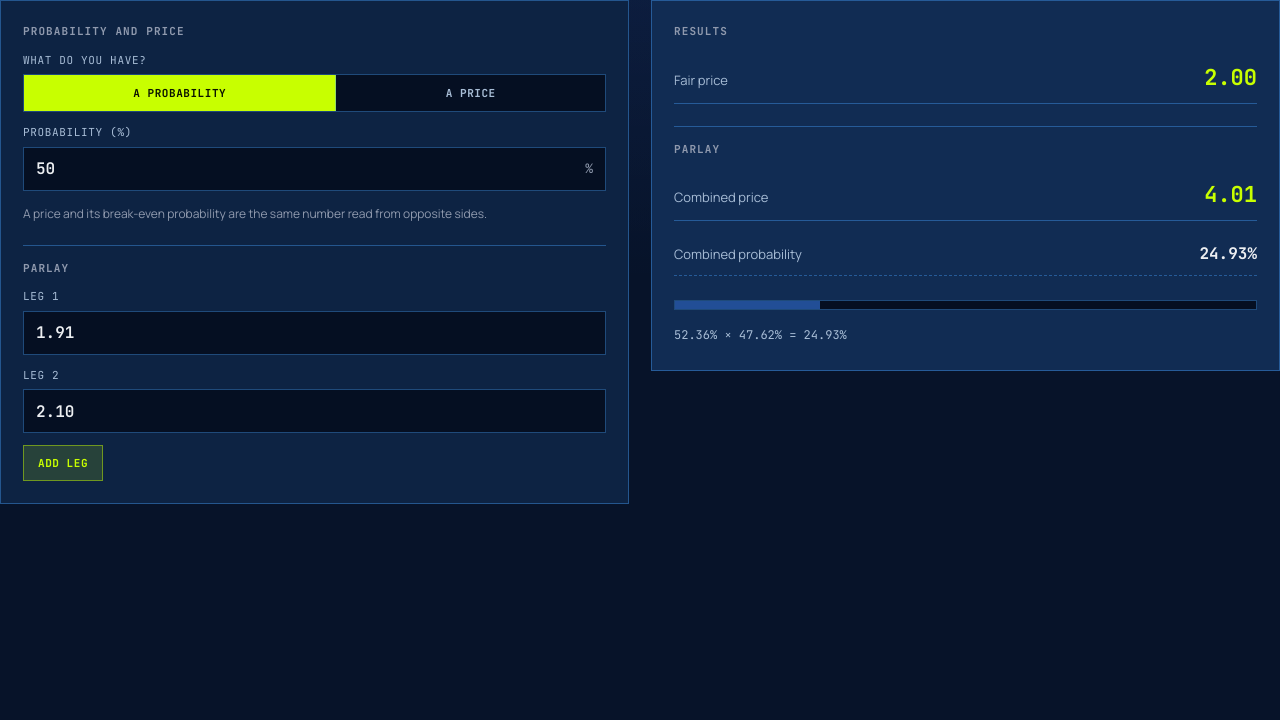
Scenario: probability calculator › una quota di 1.75 chiede il 57.14%
This screenshot has width=1280, height=720.
Click the button "A price" at (471, 93), box [336,75,605,111]
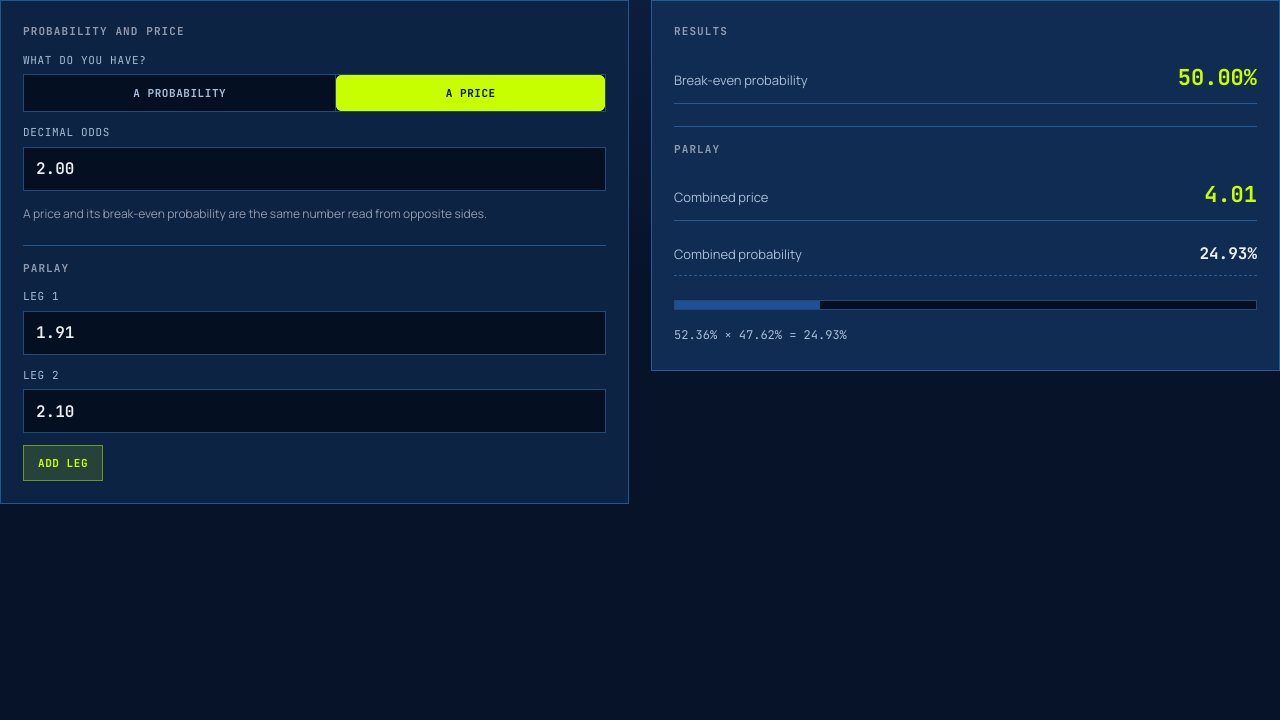
Type "1.75" into the field labelled "Decimal odds" at (314, 168), box [24,148,605,190]
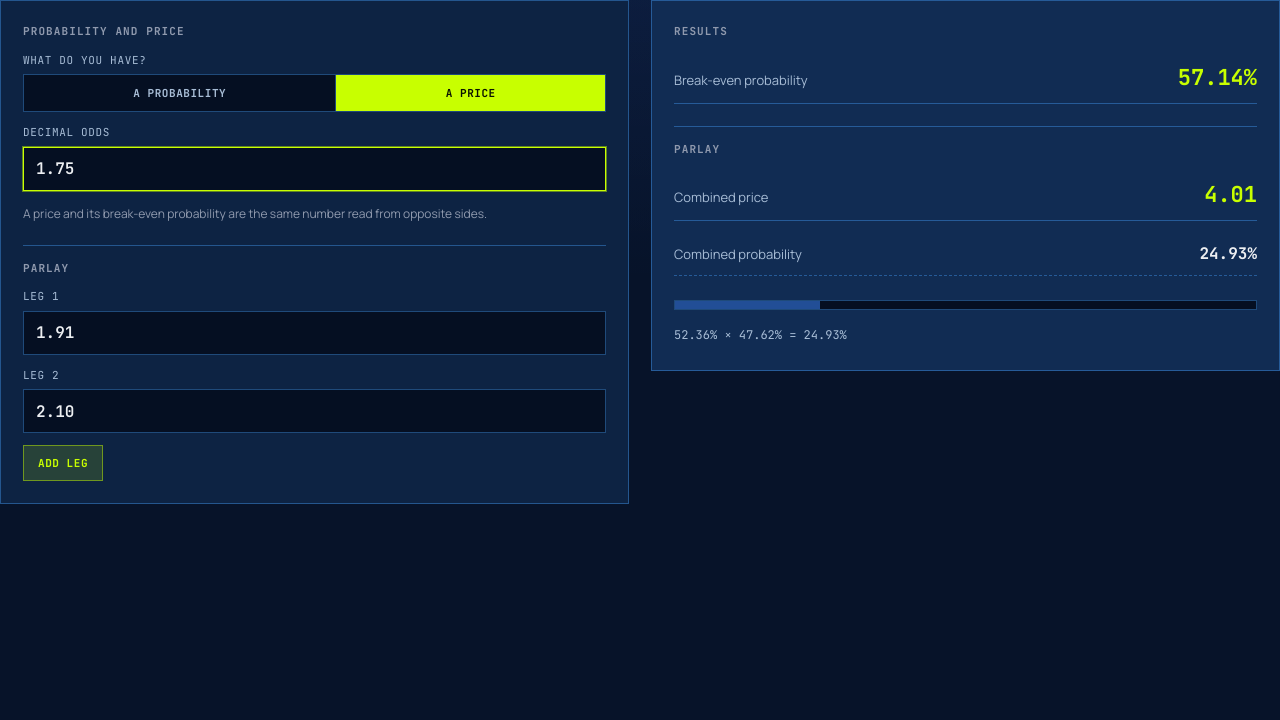
Expected: the text with test id "out-breakeven" reads "57.14%", [1178,62,1257,92]
